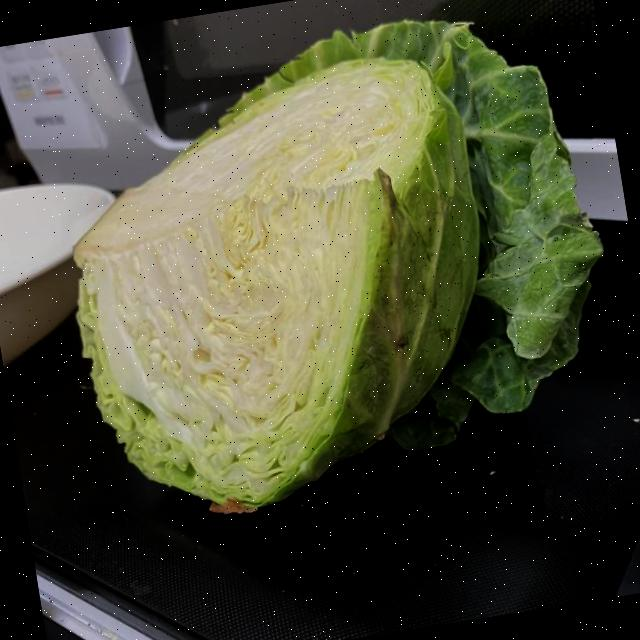cabbage: (34, 0, 640, 543)
